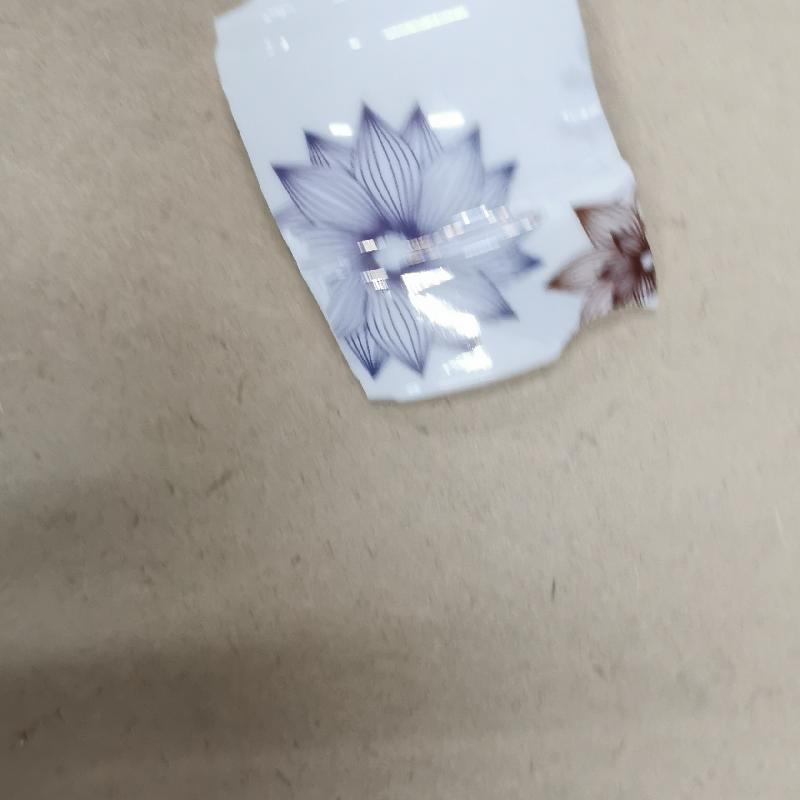ceram: (202, 3, 664, 405)
